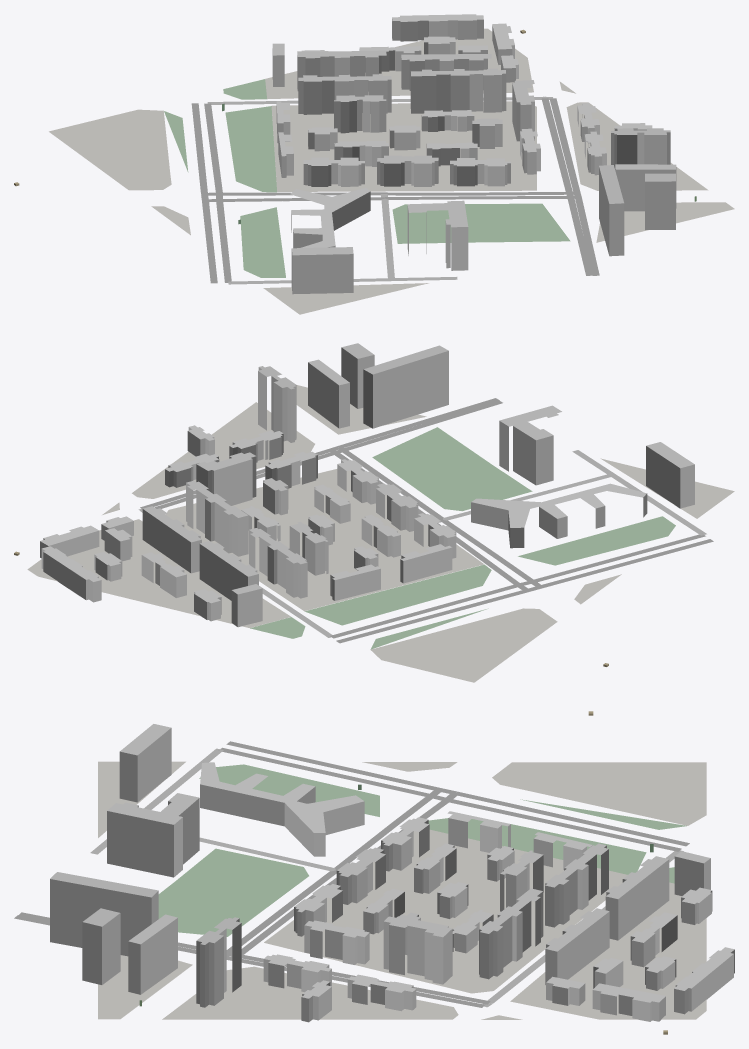
The picture shows the model from 3 angles, top to bottom: view 1: azimuth 30°, elevation 25°; view 2: azimuth 150°, elevation 25°; view 3: azimuth 270°, elevation 25°; orthographic projection. The views are drawn at different scales.
Size of the model in its own units: 621 by 58.19 by 593.
